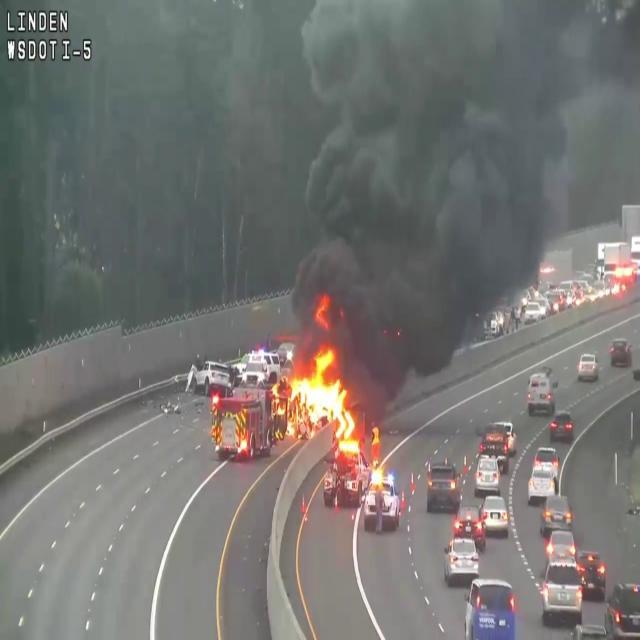Fire: (289, 332, 349, 418)
Smoke: (270, 1, 638, 340)
